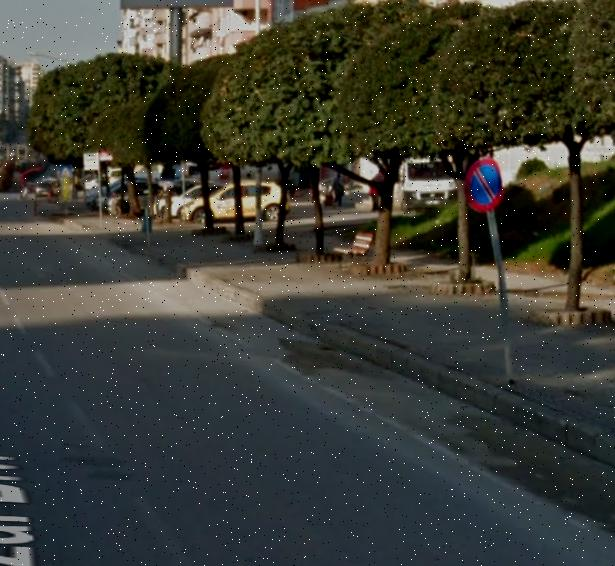nopark: (463, 158, 504, 211)
